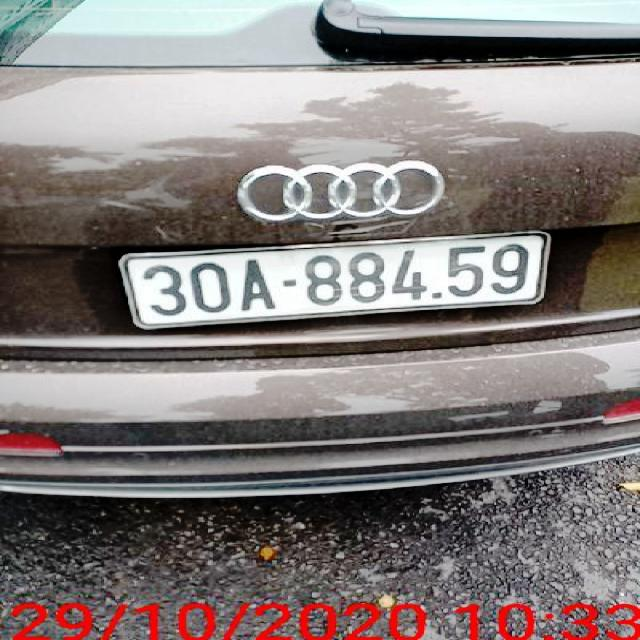license_plate: (124, 235, 539, 333)
